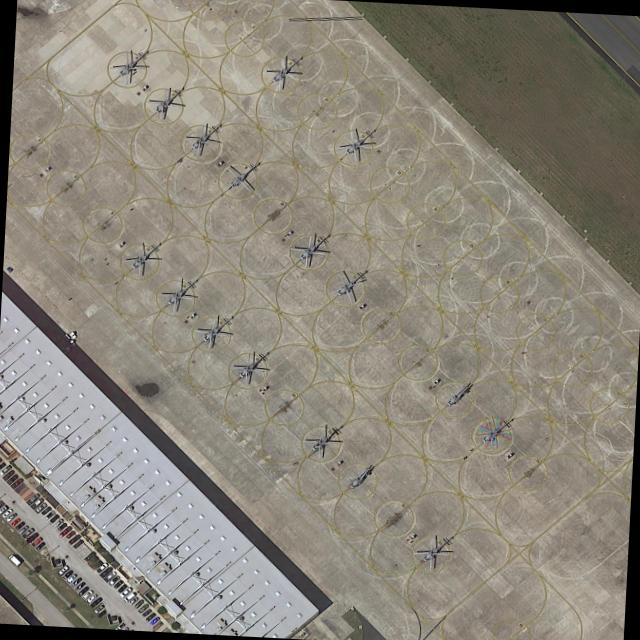small-vehicle: (88, 596, 102, 609), (117, 587, 132, 599), (58, 526, 72, 538), (10, 477, 24, 489), (29, 498, 43, 510), (82, 551, 95, 563), (25, 494, 39, 505), (121, 592, 135, 603), (34, 502, 47, 513), (21, 528, 34, 539), (1, 470, 14, 481), (5, 474, 18, 485), (71, 539, 84, 550), (94, 563, 107, 574), (107, 575, 120, 586), (56, 565, 68, 576), (51, 518, 63, 529), (85, 593, 97, 604), (26, 532, 38, 543), (30, 537, 42, 548), (16, 525, 29, 535), (98, 568, 111, 578), (0, 465, 11, 476), (144, 612, 155, 623), (81, 590, 93, 600), (4, 513, 16, 523), (1, 508, 13, 518), (92, 604, 104, 614), (132, 599, 144, 609), (65, 574, 76, 584), (64, 530, 75, 540), (44, 510, 55, 520), (14, 521, 25, 531), (40, 506, 51, 516), (34, 541, 45, 551), (62, 569, 73, 579), (70, 577, 81, 587), (77, 586, 88, 596), (66, 537, 78, 546), (48, 514, 58, 524), (9, 518, 20, 527), (74, 582, 85, 591), (116, 584, 127, 593), (148, 617, 159, 626), (137, 604, 148, 613), (127, 597, 138, 606), (56, 523, 66, 532), (96, 610, 106, 619), (141, 608, 151, 617), (105, 571, 115, 580), (0, 505, 8, 515), (112, 581, 122, 589)
